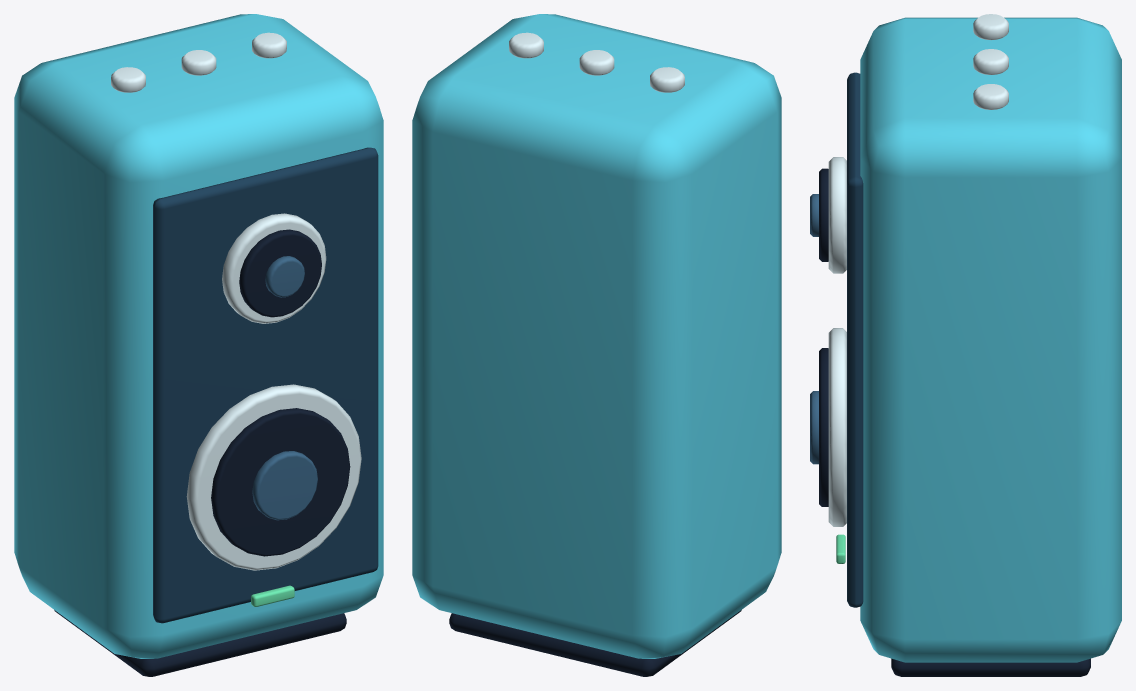
File: speaker.fbx
3 renders of one model, left to right at view 1: azimuth 30°, elevation 25°; view 2: azimuth 150°, elevation 25°; view 3: azimuth 270°, elevation 25°, orthographic.
Visible parts, largest first — view 1: speaker; view 2: speaker; view 3: speaker.
Boxes of the visible parts, x1,y1,x2,y2 form: speaker: (14, 14, 383, 676); speaker: (412, 14, 781, 676); speaker: (810, 14, 1121, 676).
Size of the model in its own units: 50.98 by 100 by 49.13.
1 material, 1 textured.
